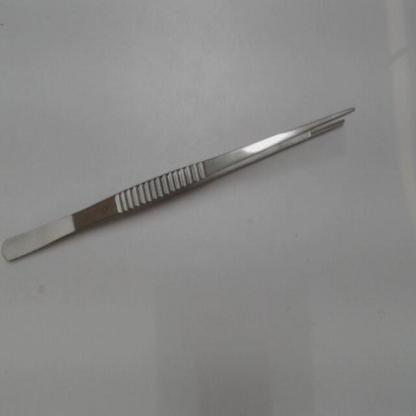DeBakey Dissector: (1, 90, 375, 272)
